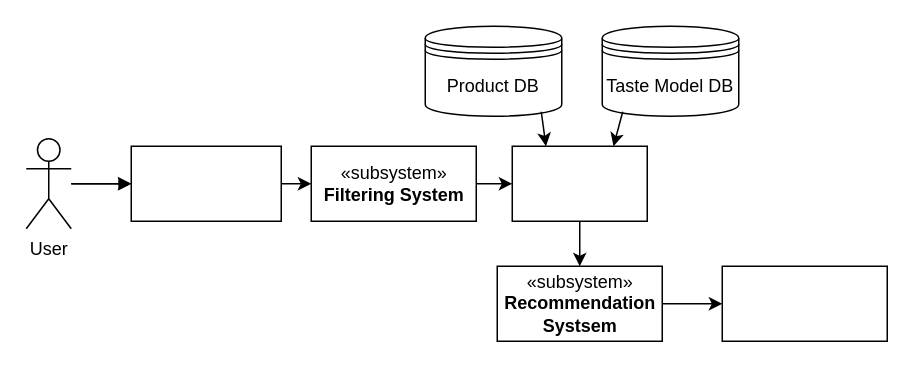
The diagram is 914 pixels wide and 368 high, and some of its shapes have lost their labels. The centre of each missing label's shape, as x and y in pixels:
"DB Handler" goes at point 579,183.
"User Interface" goes at point 205,183.
"«other system» Item Display System" goes at point 804,303.
